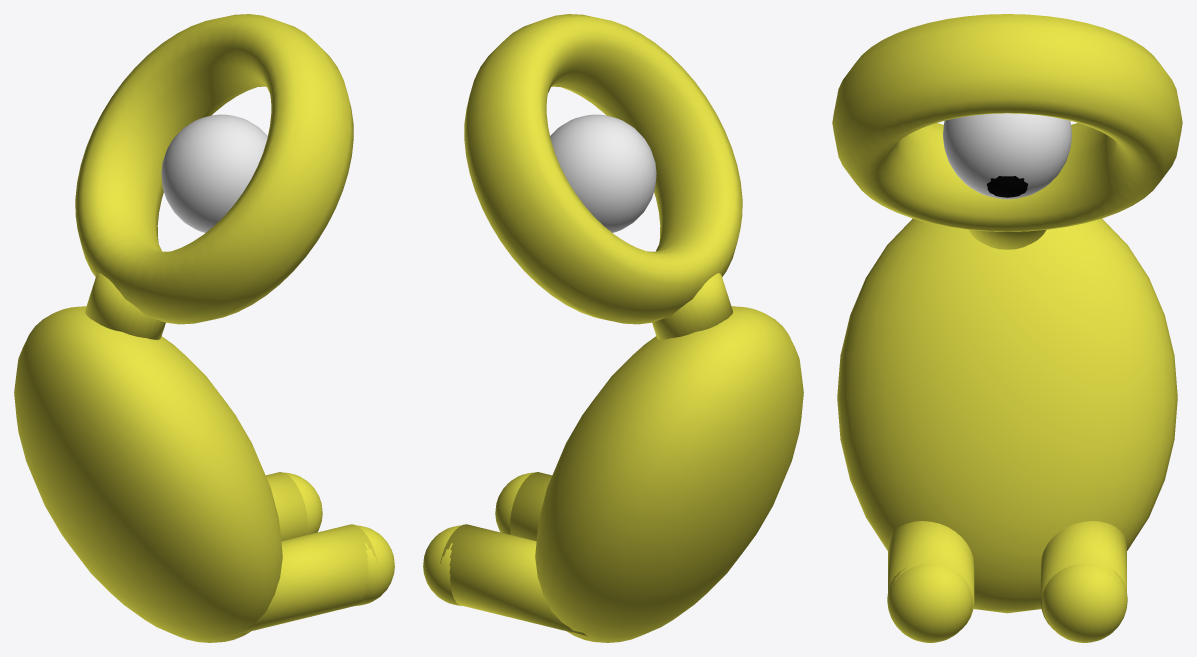
File: wretched.fbx
3 renders of one model, left to right at view 1: azimuth 30°, elevation 25°; view 2: azimuth 150°, elevation 25°; view 3: azimuth 270°, elevation 25°, orthographic. The views are drawn at different scales.
Parts seen in each view (by area): view 1: wretched head; view 2: wretched head; view 3: wretched head.
Part boxes in pixels (x1,y1,x2,y2): wretched head: (14,14,394,642); wretched head: (423,14,803,642); wretched head: (832,14,1182,642).
Bounding box in the file's own units: 179 × 321 × 162.
